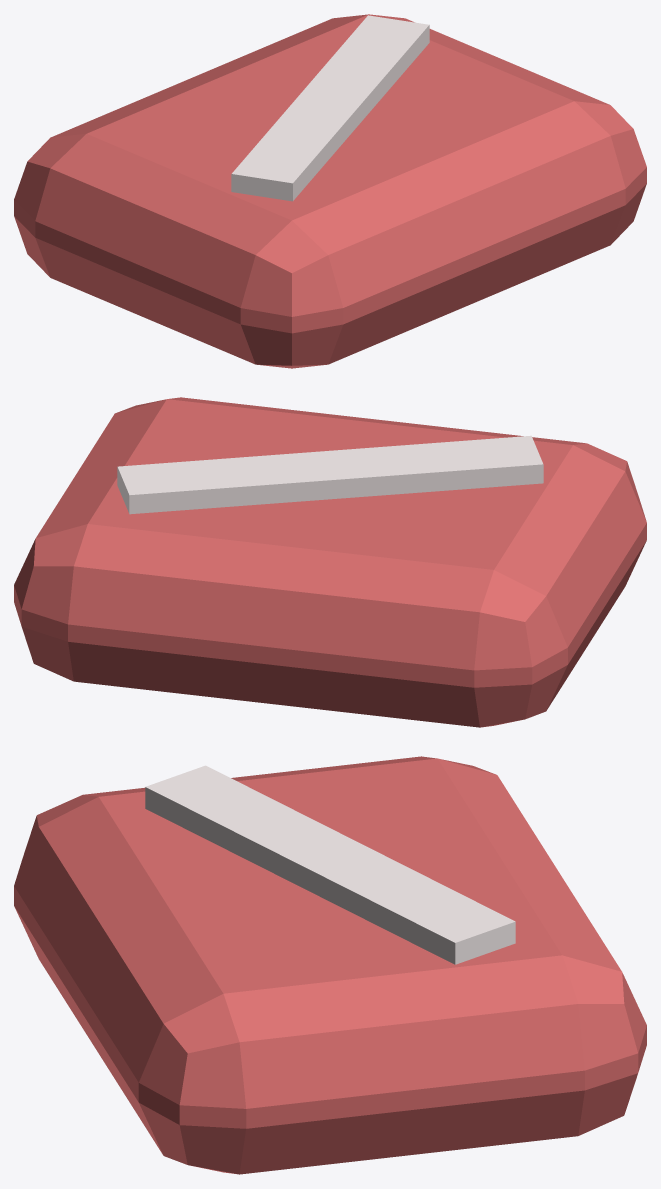
The model's file is beef_held.gltf.
3 views of the same model, one above another, from view 1: azimuth 30°, elevation 25°; view 2: azimuth 150°, elevation 25°; view 3: azimuth 270°, elevation 25° (orthographic). The views are drawn at different scales.
Visible parts, largest first — view 1: animals_beef_held; view 2: animals_beef_held; view 3: animals_beef_held.
Boxes of the visible parts, x1,y1,x2,y2 form: animals_beef_held: [14, 14, 646, 368]; animals_beef_held: [14, 397, 646, 727]; animals_beef_held: [14, 756, 646, 1174].
Size of the model in its own units: 0.1656 by 0.0505 by 0.1444.
